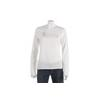maglia: (31, 26, 68, 77)
